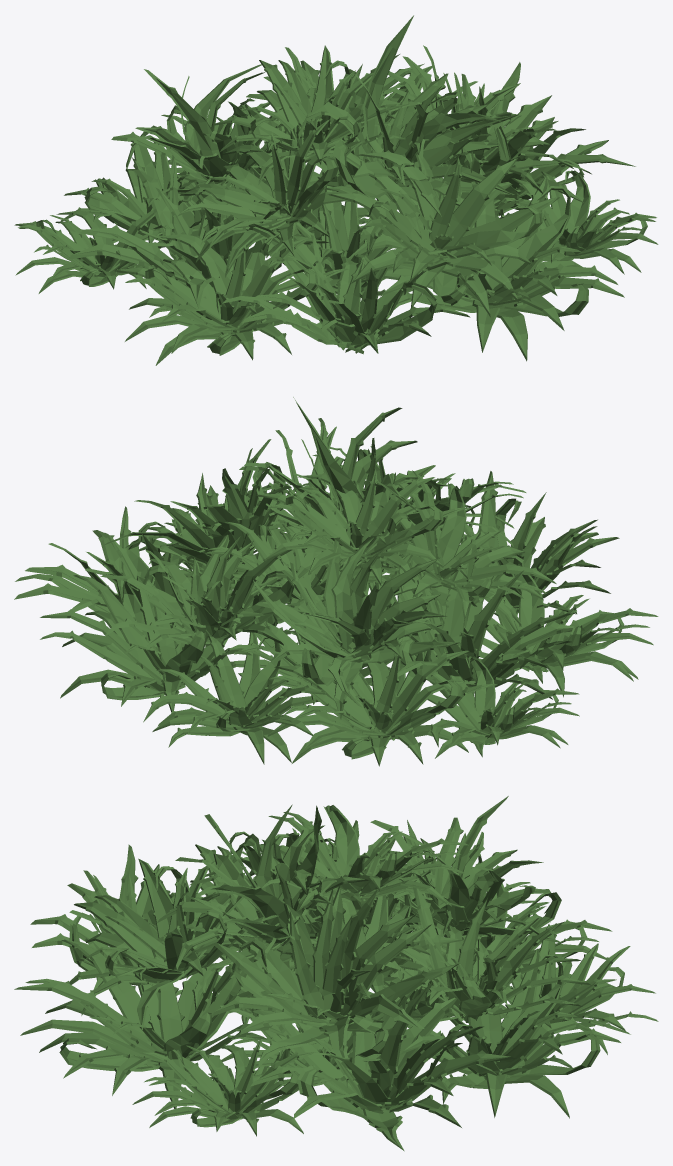
File: Aloe_04.fbx
The picture shows the model from 3 angles, top to bottom: view 1: azimuth 30°, elevation 25°; view 2: azimuth 150°, elevation 25°; view 3: azimuth 270°, elevation 25°; orthographic projection. The views are drawn at different scales.
Visible parts, largest first — view 1: SM_Foliage_Aloe_04.mo; view 2: SM_Foliage_Aloe_04.mo; view 3: SM_Foliage_Aloe_04.mo.
Boxes of the visible parts, left/top/right/bottom form: SM_Foliage_Aloe_04.mo: left=14, top=15, right=658, bottom=365; SM_Foliage_Aloe_04.mo: left=14, top=397, right=658, bottom=766; SM_Foliage_Aloe_04.mo: left=14, top=796, right=658, bottom=1151.
Bounding box in the file's own units: 308 × 128 × 287.
